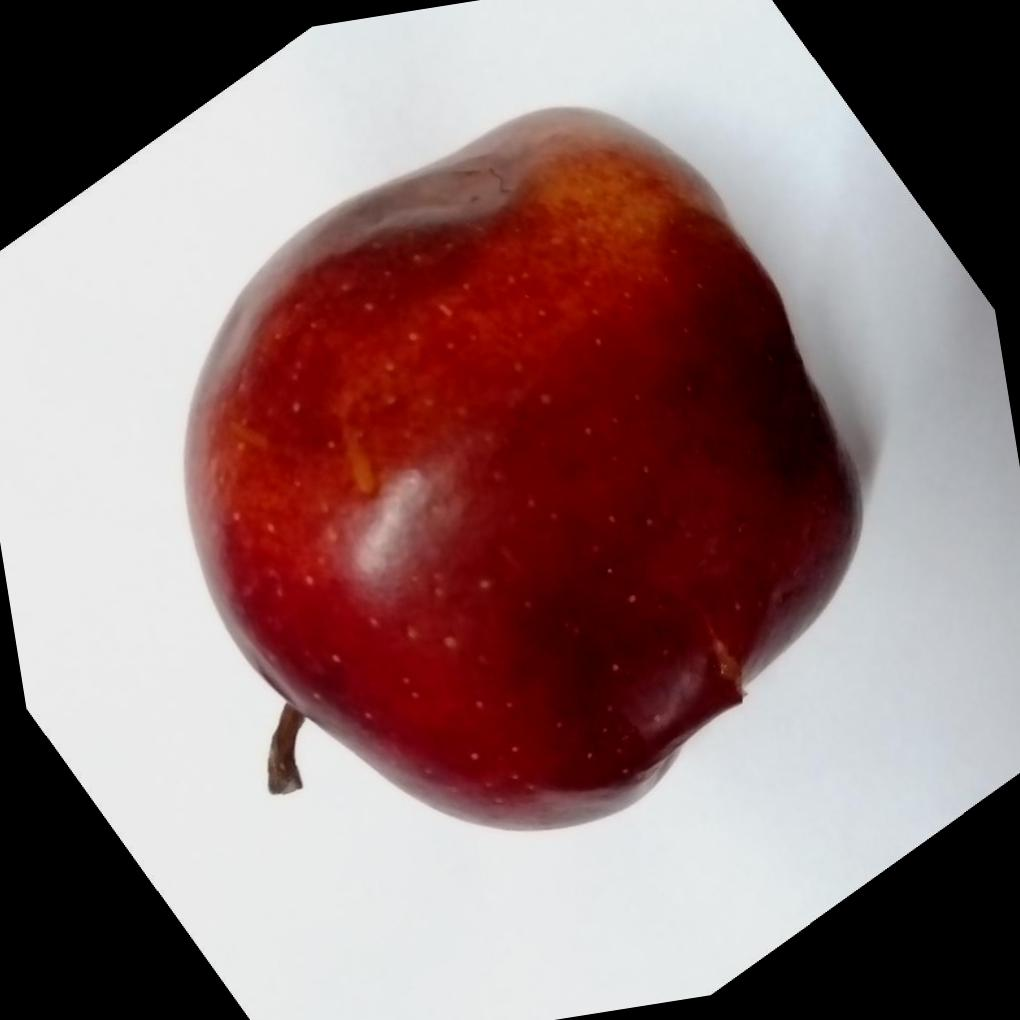FreshOrange: (181, 100, 868, 829)
